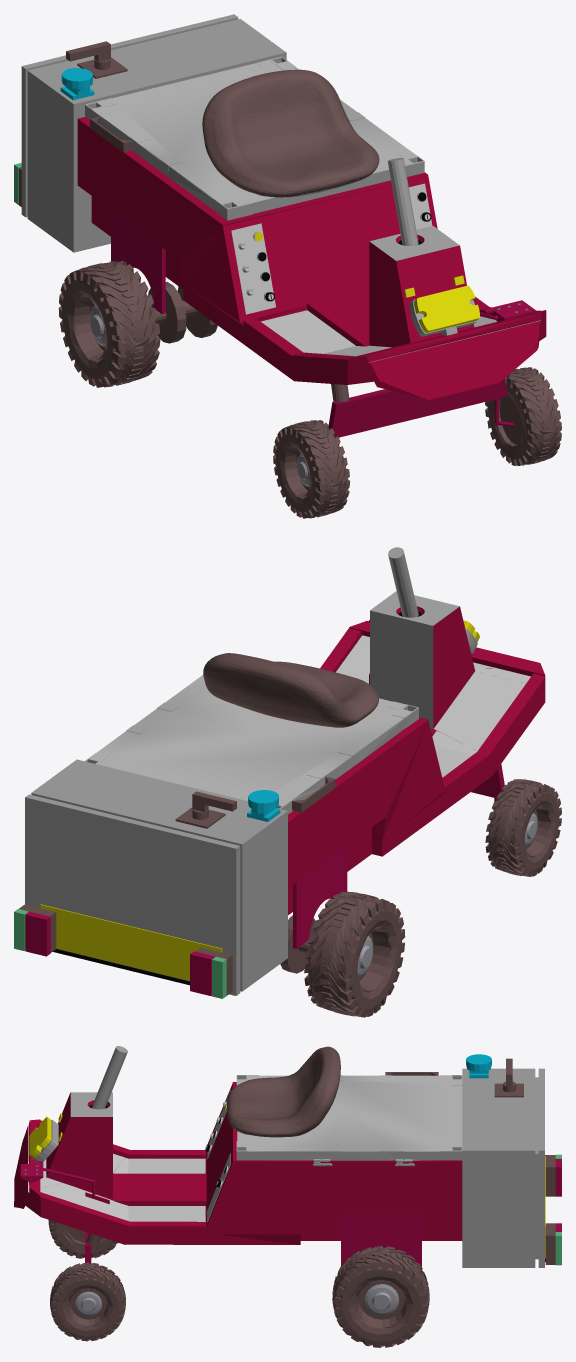
The model's file is VOITURE_COMPLETE.gltf.
3 views of the same model, one above another, from view 1: azimuth 30°, elevation 25°; view 2: azimuth 150°, elevation 25°; view 3: azimuth 270°, elevation 25° (orthographic). The views are drawn at different scales.
Size of the model in its own units: 0.8083 by 0.845 by 1.69.
